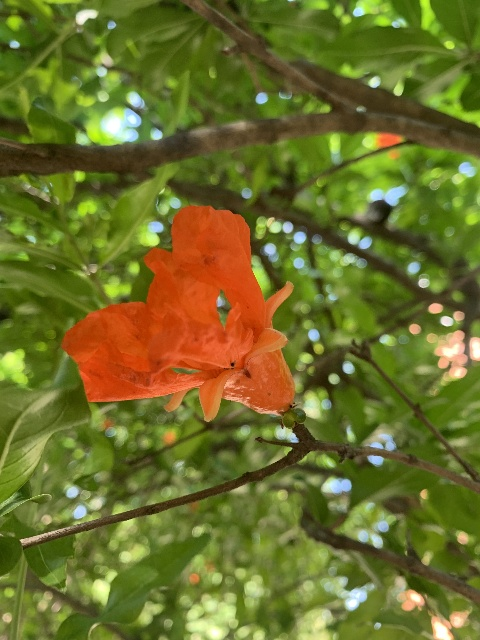flower: (62, 204, 297, 422)
